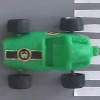verde: (4, 19, 97, 88)
